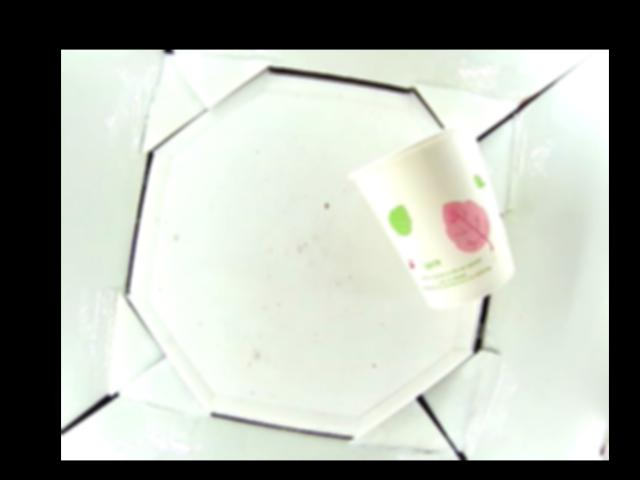Cup: (348, 113, 515, 311)
